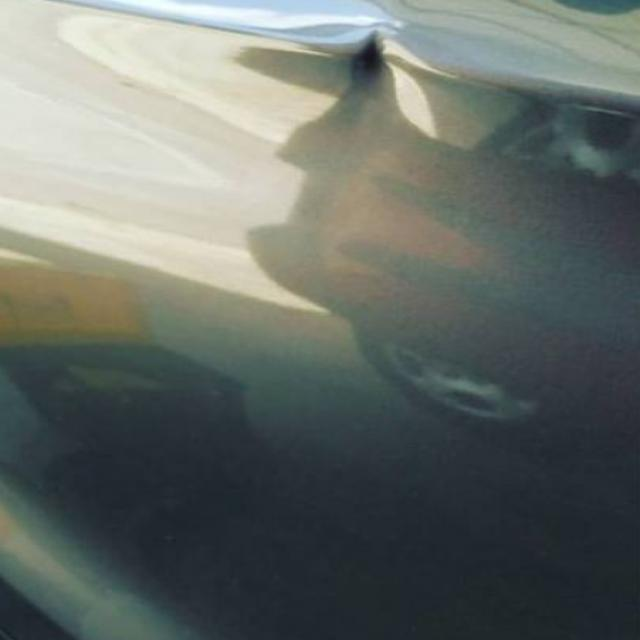dents: (252, 15, 490, 170)
